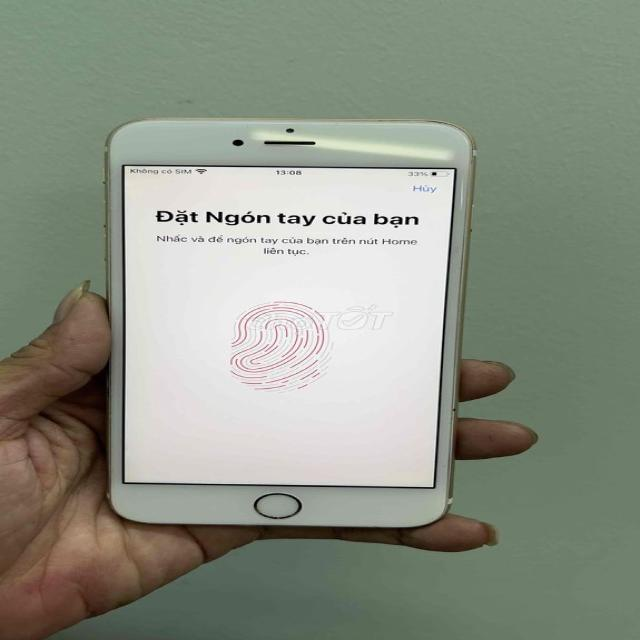gen_6: (105, 119, 475, 529)
